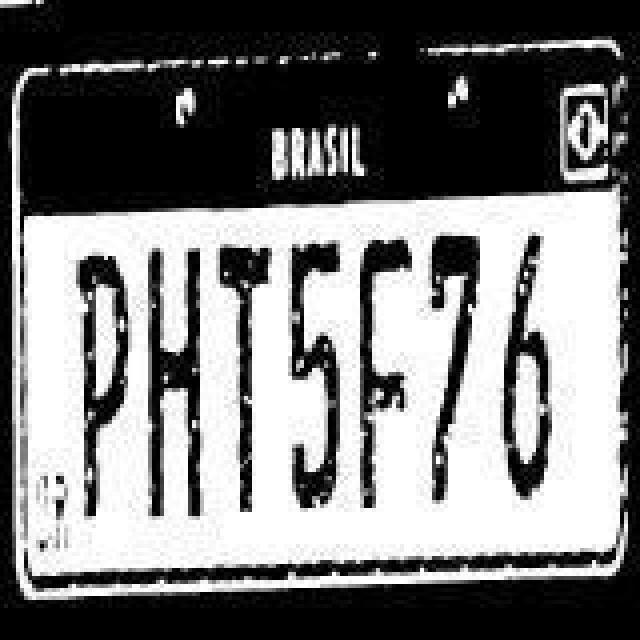5: (282, 228, 350, 524)
6: (500, 222, 564, 514)
7: (418, 220, 494, 516)
F: (352, 230, 416, 522)
H: (142, 238, 210, 530)
P: (70, 242, 138, 534)
T: (216, 238, 280, 522)
